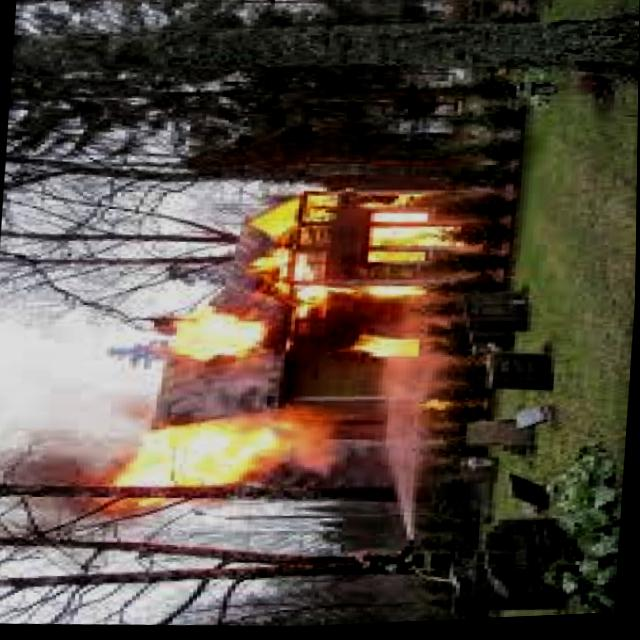helmet: (159, 297, 440, 388), (104, 409, 292, 522)
